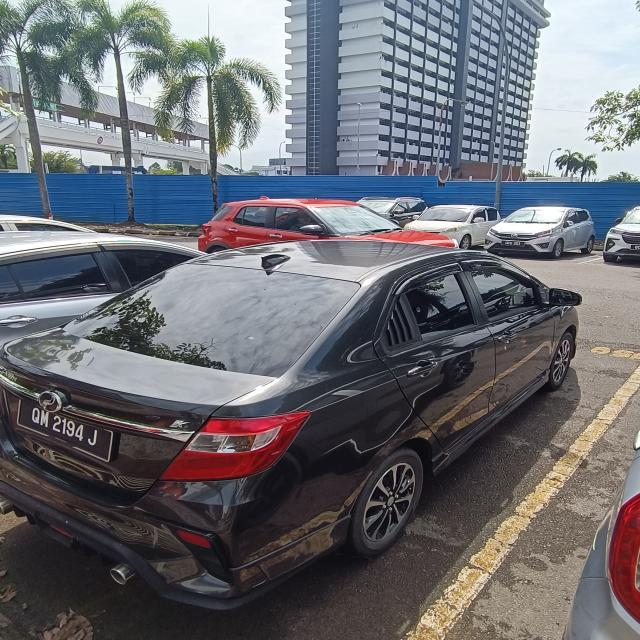PeroduaBezza: (0, 235, 582, 610)
